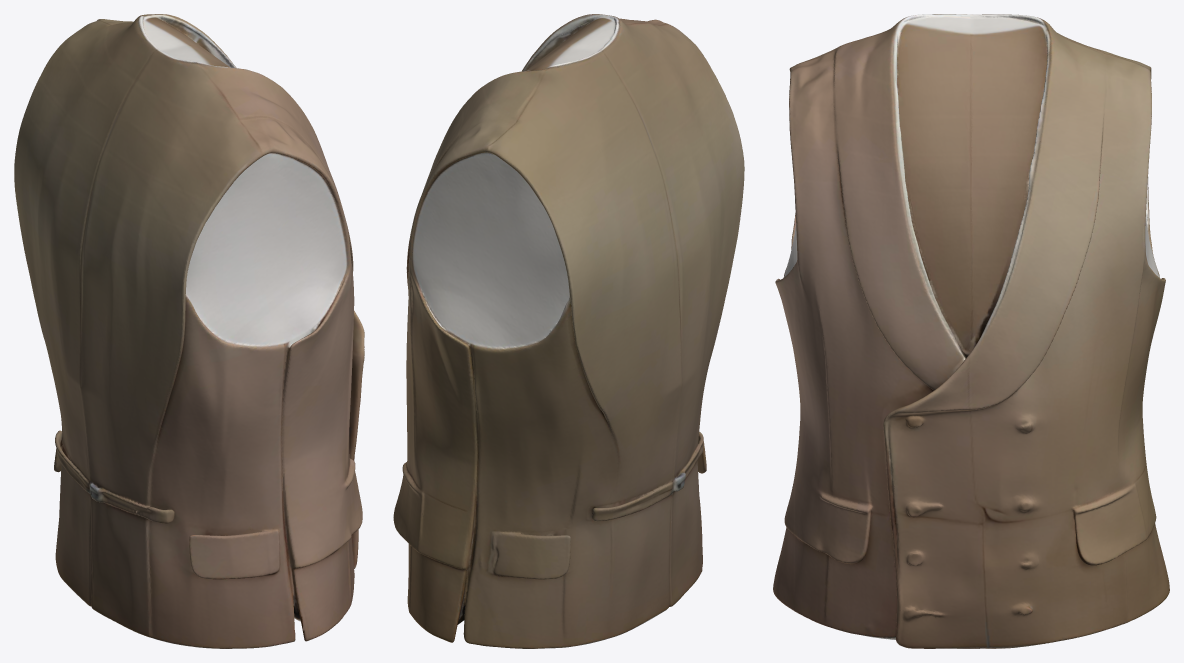
The model's file is GileKem.glb.
3 views of the same model, side by side, from view 1: azimuth 30°, elevation 25°; view 2: azimuth 150°, elevation 25°; view 3: azimuth 270°, elevation 25° (orthographic). The views are drawn at different scales.
Parts seen in each view (by area): view 1: tripo_node_aafc262a-1fb8-4063-8376-f66a66120573; view 2: tripo_node_aafc262a-1fb8-4063-8376-f66a66120573; view 3: tripo_node_aafc262a-1fb8-4063-8376-f66a66120573.
Part boxes in pixels (x1,y1,x2,y2): tripo_node_aafc262a-1fb8-4063-8376-f66a66120573: (14,14,364,648); tripo_node_aafc262a-1fb8-4063-8376-f66a66120573: (393,14,744,648); tripo_node_aafc262a-1fb8-4063-8376-f66a66120573: (773,14,1169,648).
Bounding box in the file's own units: 0.4847 × 1 × 0.6363.
1 material, 1 textured.
